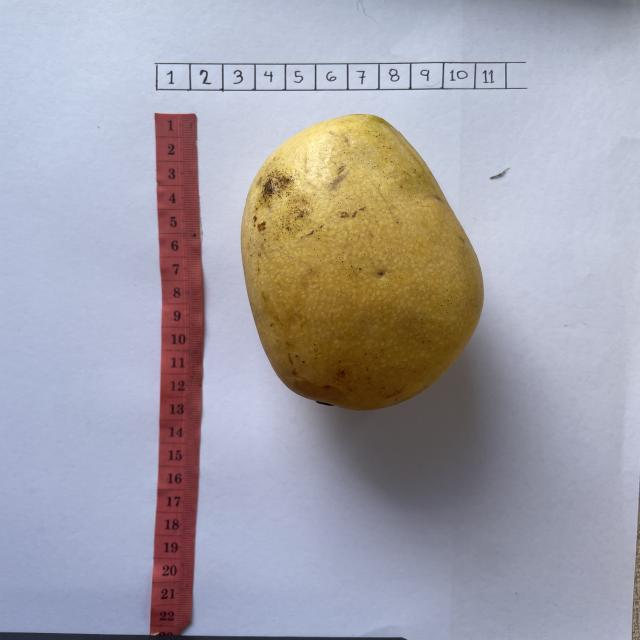Ripe: (239, 115, 485, 413)
